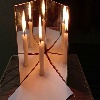fire: (39, 15, 43, 45)
